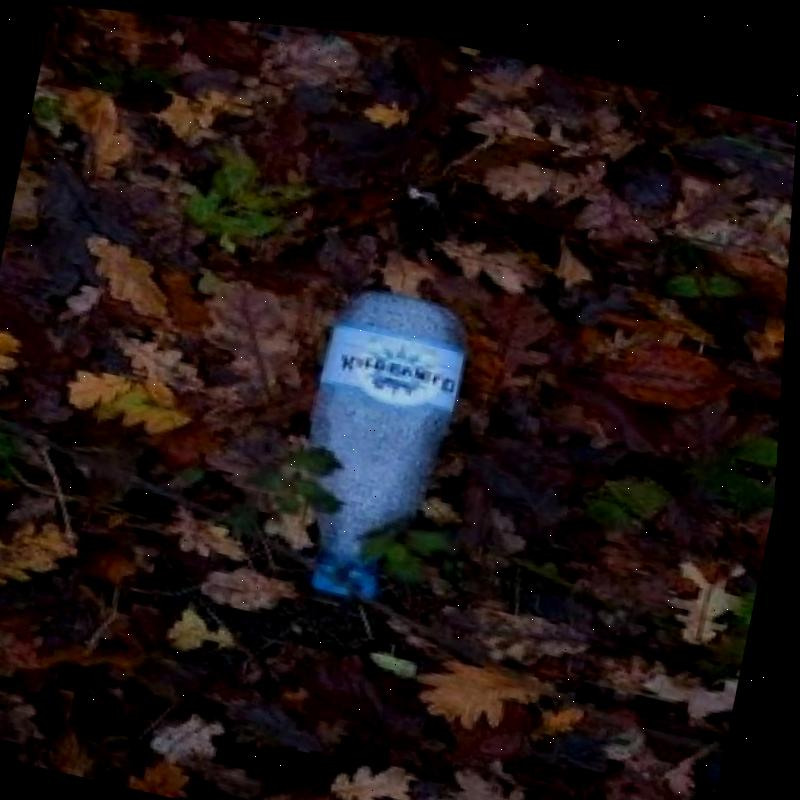botella: (288, 266, 487, 608)
